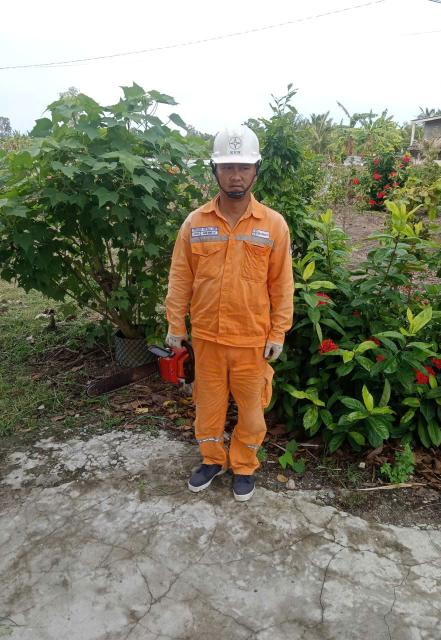gloves: (152, 324, 193, 353), (261, 333, 293, 367)
helmet: (202, 122, 278, 170)
shoes: (186, 444, 225, 495), (226, 462, 261, 506)
